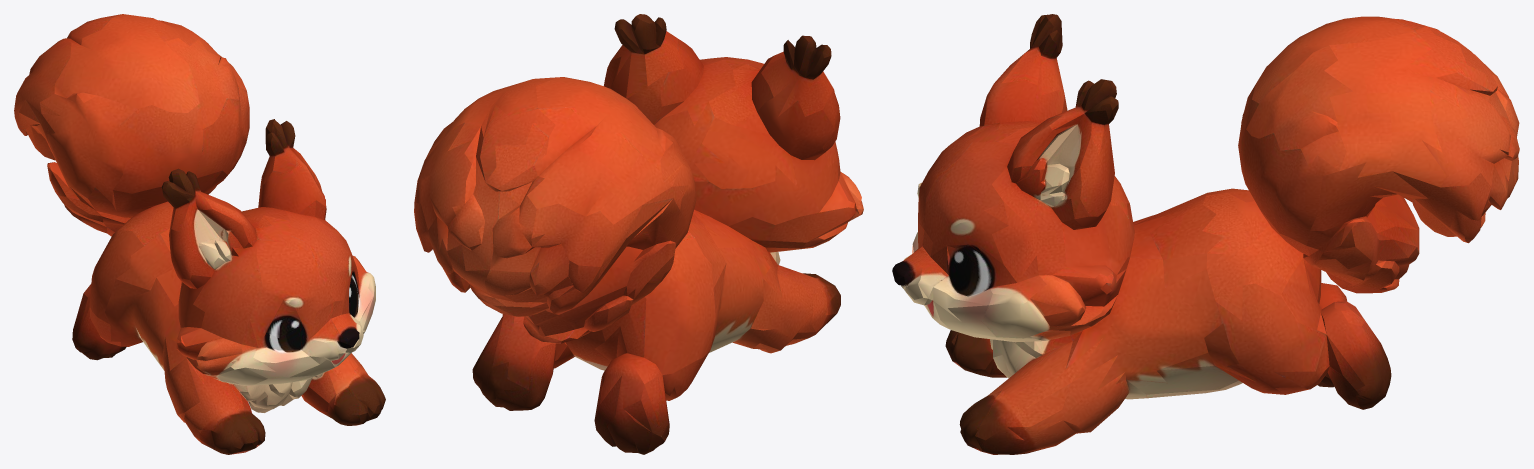
The model's file is sne-egern.glb.
The picture shows the model from 3 angles, left to right: view 1: azimuth 30°, elevation 25°; view 2: azimuth 150°, elevation 25°; view 3: azimuth 270°, elevation 25°; orthographic projection. The views are drawn at different scales.
Bounding box in the file's own units: 0.9095 × 1.27 × 1.9.
Materials: 1 (1 with a texture image).
